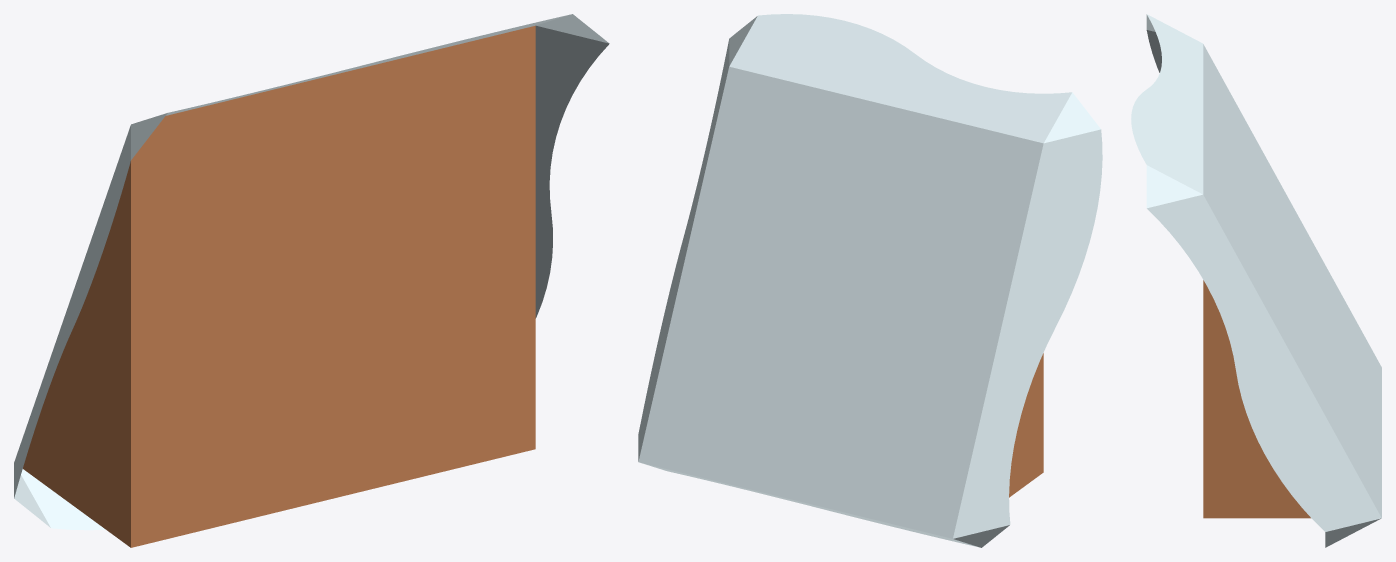
The model's file is blockSnowSlopeHalf.obj.
3 views of the same model, side by side, from view 1: azimuth 30°, elevation 25°; view 2: azimuth 150°, elevation 25°; view 3: azimuth 270°, elevation 25° (orthographic). The views are drawn at different scales.
Parts seen in each view (by area): view 1: blockSnowSlopeHalf; view 2: blockSnowSlopeHalf; view 3: blockSnowSlopeHalf.
Part boxes in pixels (<box>): blockSnowSlopeHalf: <box>14,14,609,547</box>; blockSnowSlopeHalf: <box>638,14,1102,547</box>; blockSnowSlopeHalf: <box>1131,14,1381,547</box>.
Bounding box in the file's own units: 1.23 × 1.23 × 0.7018.
